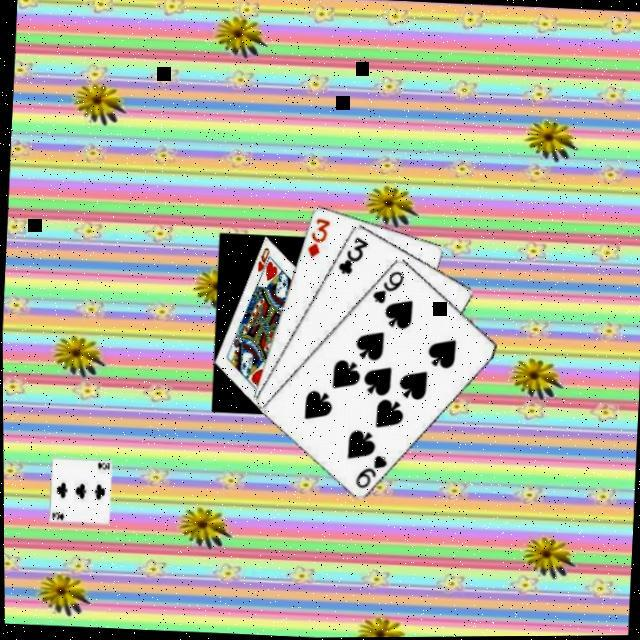3C: (332, 235, 368, 280)
3D: (302, 216, 330, 262)
9S: (350, 452, 388, 494), (366, 270, 404, 310)
